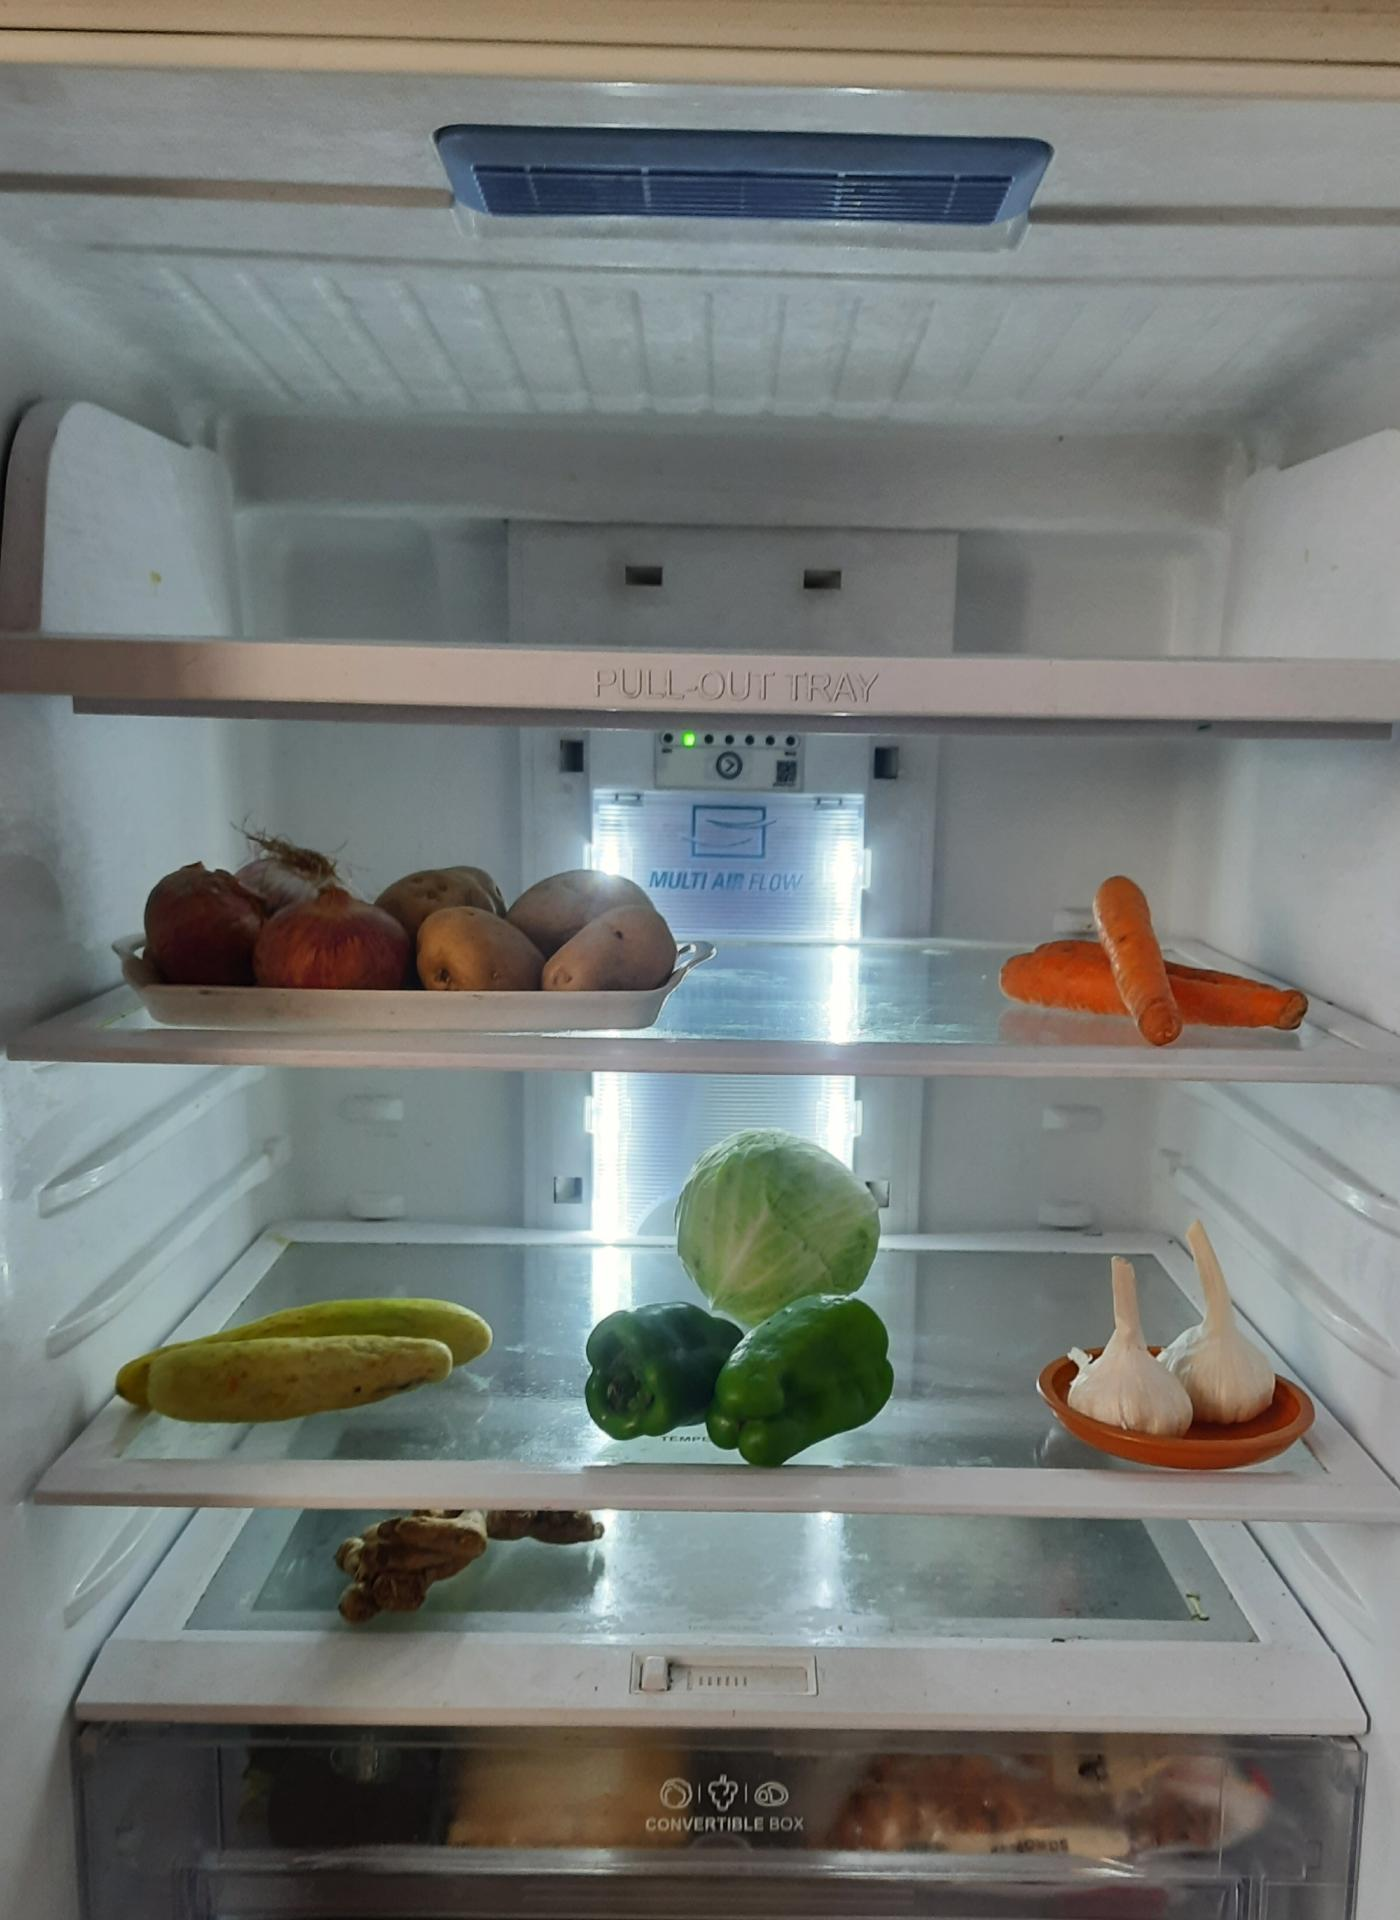cabbage: (674, 1127, 893, 1319)
capsicum: (593, 1282, 909, 1461)
carrots: (1003, 850, 1314, 1038)
cucumber: (104, 1286, 501, 1443)
garlic: (1088, 1209, 1285, 1449)
ginger: (324, 1513, 605, 1629)
onion: (139, 827, 413, 984)
potato: (383, 866, 678, 999)
